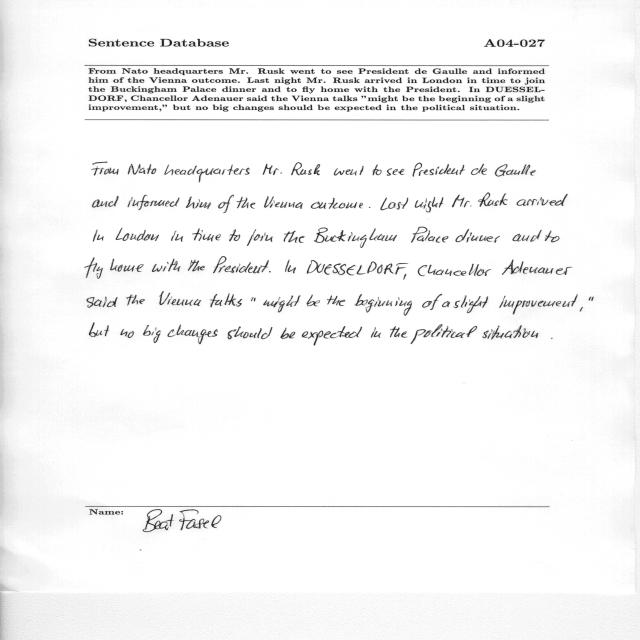word: (314, 227, 397, 248), (499, 294, 578, 314), (164, 165, 250, 183), (307, 260, 408, 275), (411, 324, 477, 344), (355, 294, 413, 316), (302, 326, 362, 345), (502, 259, 572, 275), (167, 325, 218, 344), (213, 257, 269, 274), (418, 264, 491, 276), (483, 325, 539, 340), (128, 195, 180, 210), (413, 163, 465, 177), (263, 296, 301, 313), (455, 229, 500, 243), (517, 194, 568, 206), (454, 295, 488, 313), (411, 227, 448, 243), (159, 292, 201, 306), (311, 198, 363, 209), (228, 327, 272, 340), (116, 228, 159, 241), (495, 164, 536, 177), (264, 196, 303, 209), (210, 294, 242, 308), (110, 259, 144, 272), (415, 197, 443, 212), (478, 193, 508, 207), (247, 230, 273, 246), (85, 257, 103, 279), (291, 163, 320, 176), (192, 229, 221, 242), (152, 259, 181, 272), (91, 162, 119, 175), (381, 198, 409, 211), (512, 230, 542, 242), (87, 297, 117, 308), (186, 196, 211, 209), (143, 325, 161, 343), (422, 294, 442, 310), (128, 164, 156, 175), (218, 195, 234, 213), (93, 196, 119, 207), (89, 323, 109, 337), (334, 166, 363, 175), (284, 231, 305, 243), (452, 195, 471, 207), (262, 164, 282, 175), (126, 295, 145, 306), (390, 326, 407, 338), (237, 197, 255, 208), (327, 295, 345, 306), (188, 260, 205, 271), (471, 164, 487, 175), (280, 328, 295, 339), (307, 295, 320, 307), (545, 231, 559, 242), (285, 260, 296, 274), (387, 168, 405, 176), (93, 230, 104, 242), (171, 231, 183, 242), (229, 230, 240, 242), (120, 329, 134, 338), (371, 327, 381, 338), (373, 165, 382, 175), (442, 301, 450, 307), (251, 297, 256, 302), (589, 297, 594, 301), (404, 274, 407, 280), (580, 307, 583, 311), (269, 271, 271, 272), (551, 338, 553, 339), (369, 207, 370, 208)
